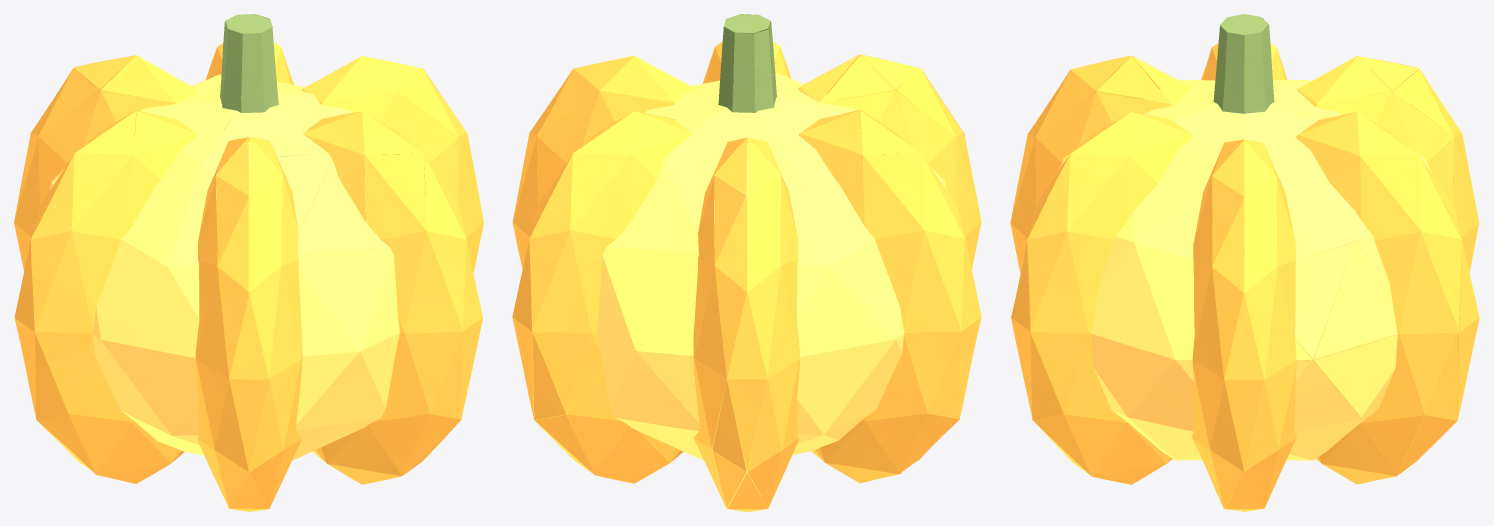
File: halloween_mini_pumpkin.glb
3 views of the same model, side by side, from view 1: azimuth 30°, elevation 25°; view 2: azimuth 150°, elevation 25°; view 3: azimuth 270°, elevation 25° (orthographic).
Parts seen in each view (by area): view 1: MiniPumpkin; view 2: MiniPumpkin; view 3: MiniPumpkin.
Part boxes in pixels (x1,y1,x2,y2): MiniPumpkin: [14, 14, 483, 511]; MiniPumpkin: [512, 14, 981, 511]; MiniPumpkin: [1010, 14, 1479, 511].
Size of the model in its own units: 1.38 by 1.27 by 1.25.
